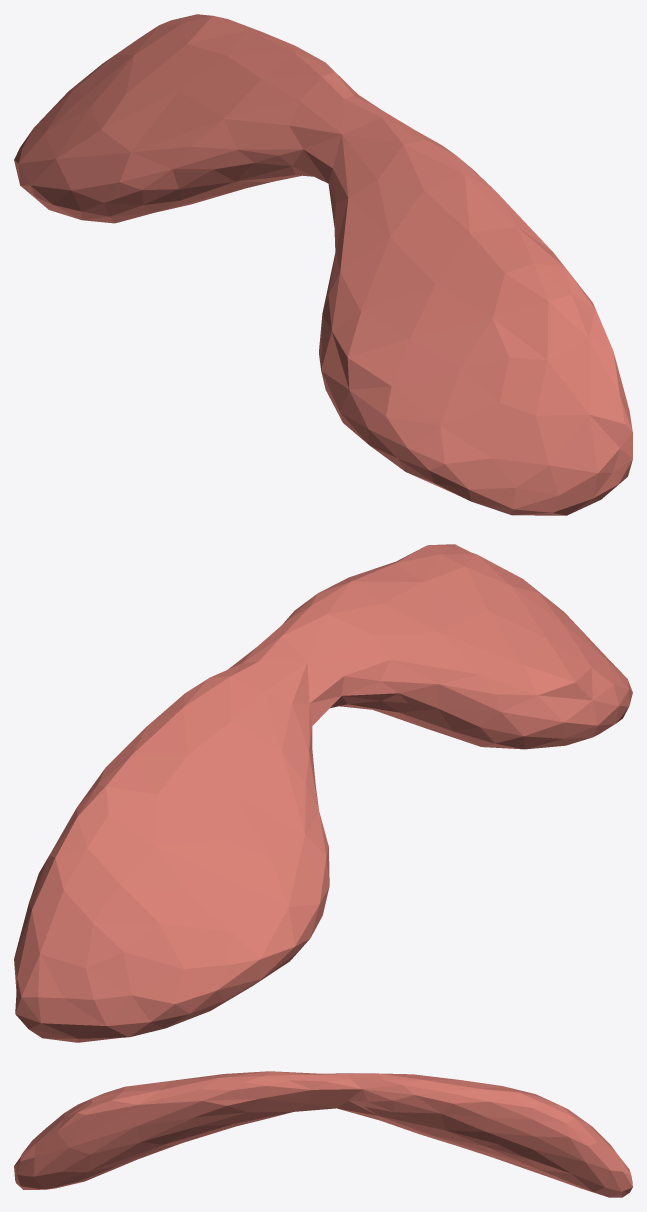
3 views of the same model, one above another, from view 1: azimuth 30°, elevation 25°; view 2: azimuth 150°, elevation 25°; view 3: azimuth 270°, elevation 25° (orthographic). The views are drawn at different scales.
Parts seen in each view (by area): view 1: 173.obj; view 2: 173.obj; view 3: 173.obj.
Part boxes in pixels (x1,y1,x2,y2): 173.obj: (14, 14, 632, 515); 173.obj: (14, 544, 632, 1042); 173.obj: (14, 1071, 632, 1197).
Bounding box in the file's own units: 457 × 444 × 1886.
